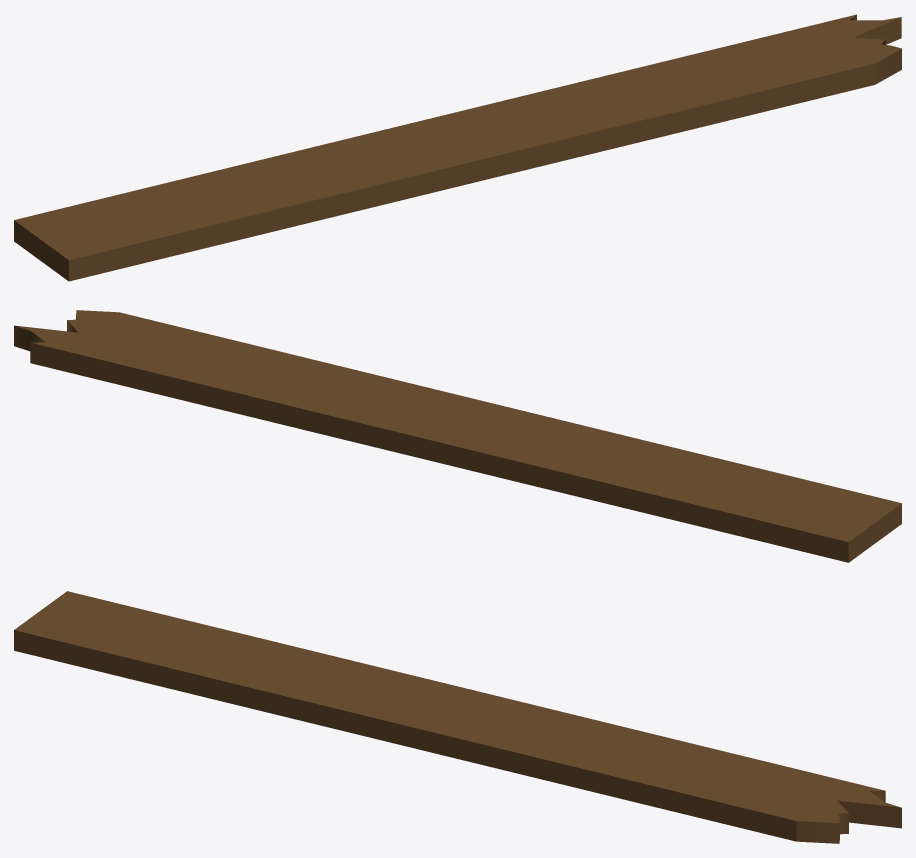
Rendered from Holzstück.fbx.
3 renders of one model, top to bottom at view 1: azimuth 30°, elevation 25°; view 2: azimuth 150°, elevation 25°; view 3: azimuth 330°, elevation 25°, orthographic. The views are drawn at different scales.
Visible parts, largest first — view 1: polySurface341; view 2: polySurface341; view 3: polySurface341.
Boxes of the visible parts, x1,y1,x2,y2 form: polySurface341: [14, 14, 901, 281]; polySurface341: [14, 310, 901, 562]; polySurface341: [14, 591, 901, 843].
Size of the model in its own units: 157 by 3.64 by 17.04.
